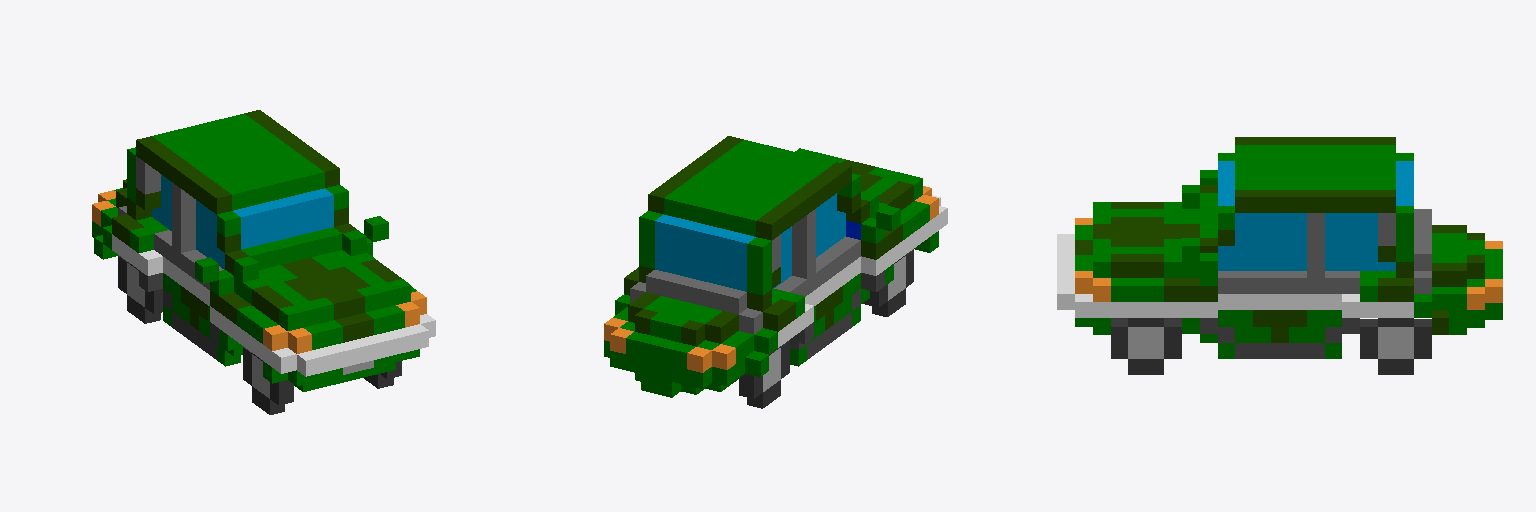
3 views of the same model, side by side, from view 1: azimuth 30°, elevation 25°; view 2: azimuth 150°, elevation 25°; view 3: azimuth 270°, elevation 25° (orthographic).
Parts seen in each view (by area): view 1: object 1; view 2: object 1; view 3: object 1.
Boxes of the visible parts, <box> form: object 1: <box>92,110,435,414</box>; object 1: <box>604,136,947,408</box>; object 1: <box>1057,137,1502,374</box>.
Bounding box in the file's own units: 1.2 × 1.1 × 2.5.
1 materials, 1 textured.